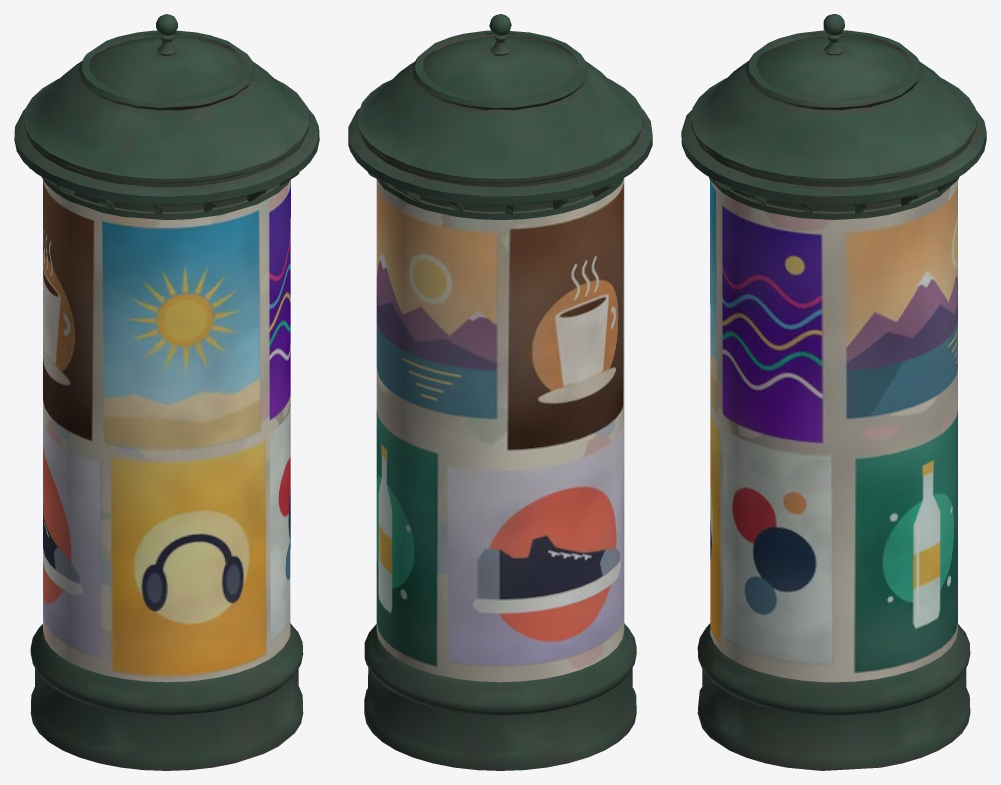
The model's file is advertising-column.glb.
The picture shows the model from 3 angles, left to right: view 1: azimuth 30°, elevation 25°; view 2: azimuth 150°, elevation 25°; view 3: azimuth 270°, elevation 25°; orthographic projection.
Parts seen in each view (by area): view 1: advertising-column_posters, advertising-column_body; view 2: advertising-column_posters, advertising-column_body; view 3: advertising-column_posters, advertising-column_body.
Part boxes in pixels (x1,y1,x2,y2): advertising-column_posters: [43, 180, 290, 682]; advertising-column_body: [14, 14, 319, 770]; advertising-column_posters: [376, 178, 624, 682]; advertising-column_body: [348, 14, 652, 770]; advertising-column_posters: [710, 180, 957, 682]; advertising-column_body: [681, 14, 986, 770].
Bounding box in the file's own units: 1.49 × 3.76 × 1.49.
2 materials, 2 textured.
